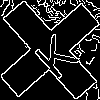K: (25, 25, 82, 82)
